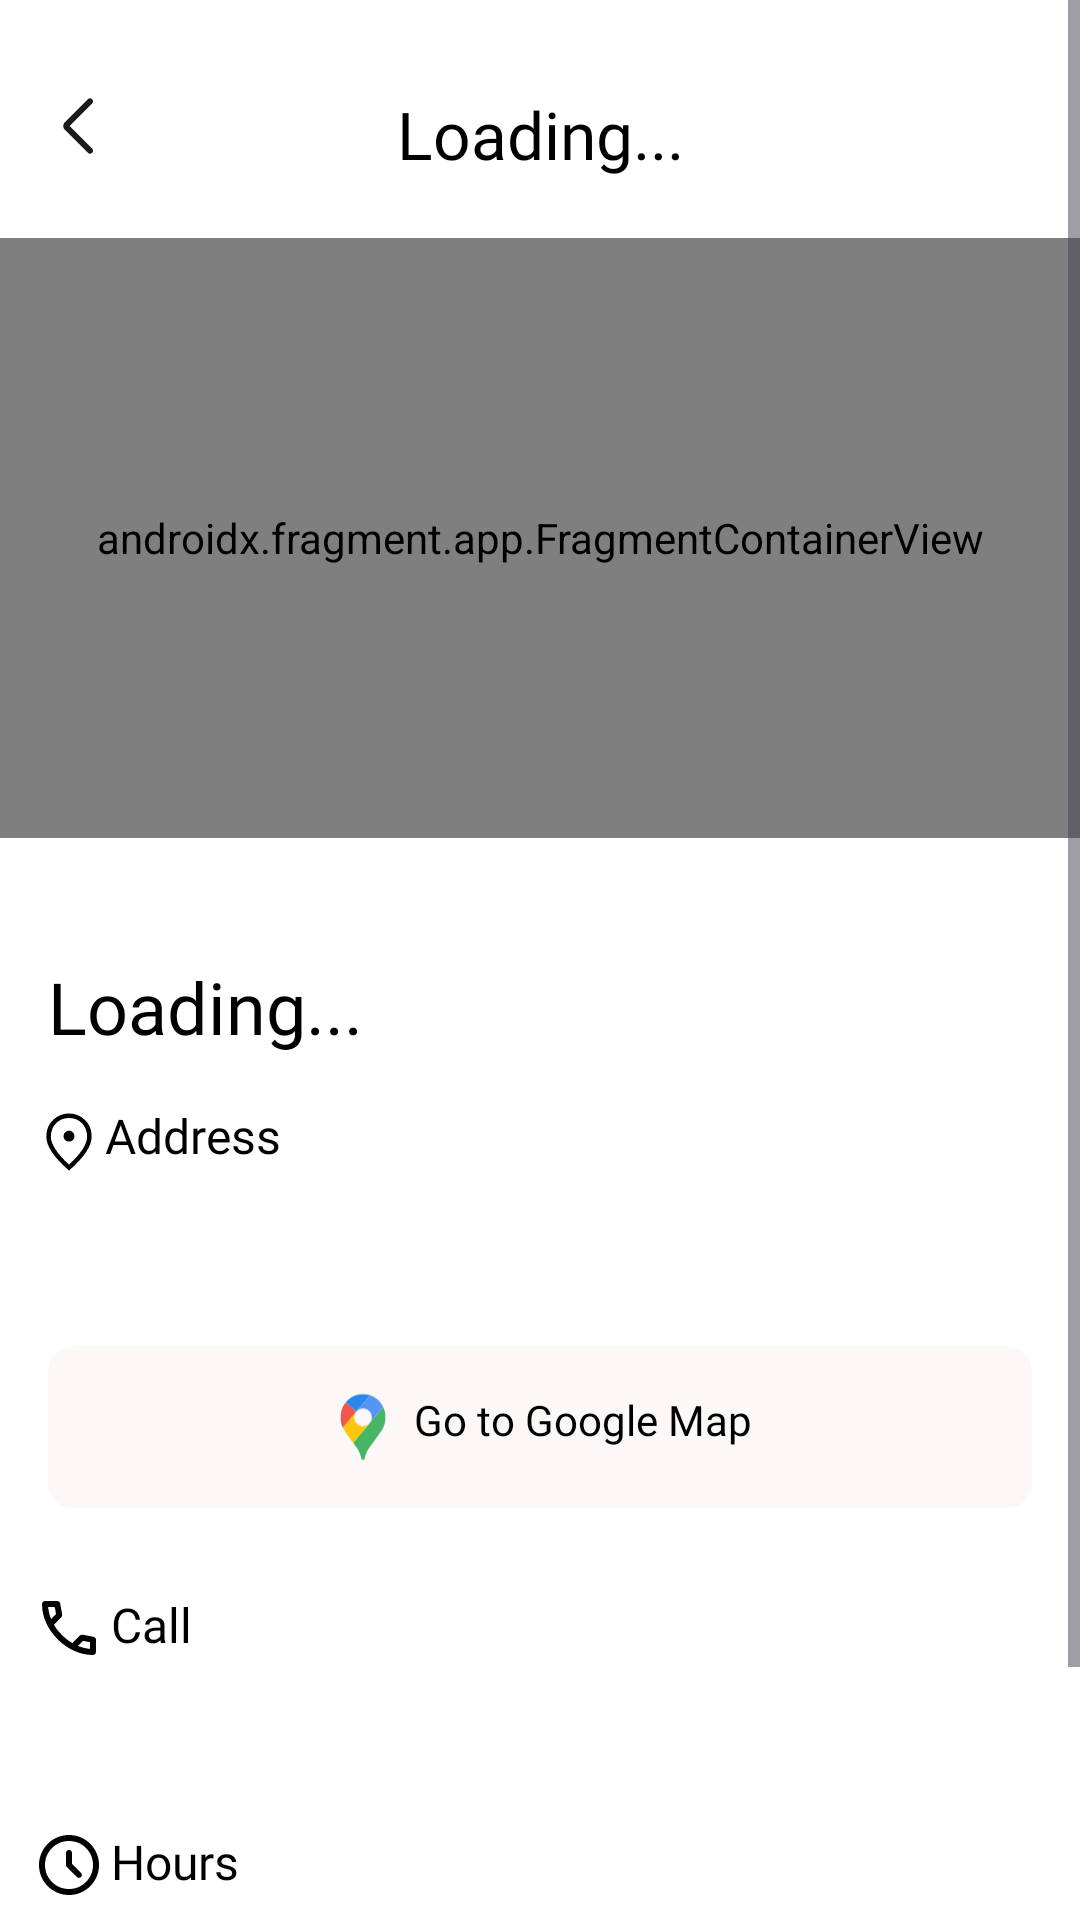

Screen size 1080*1920. Icon name, then its center in pixels as (x,y):
arrow back: (78,126)
location: (69,1142)
